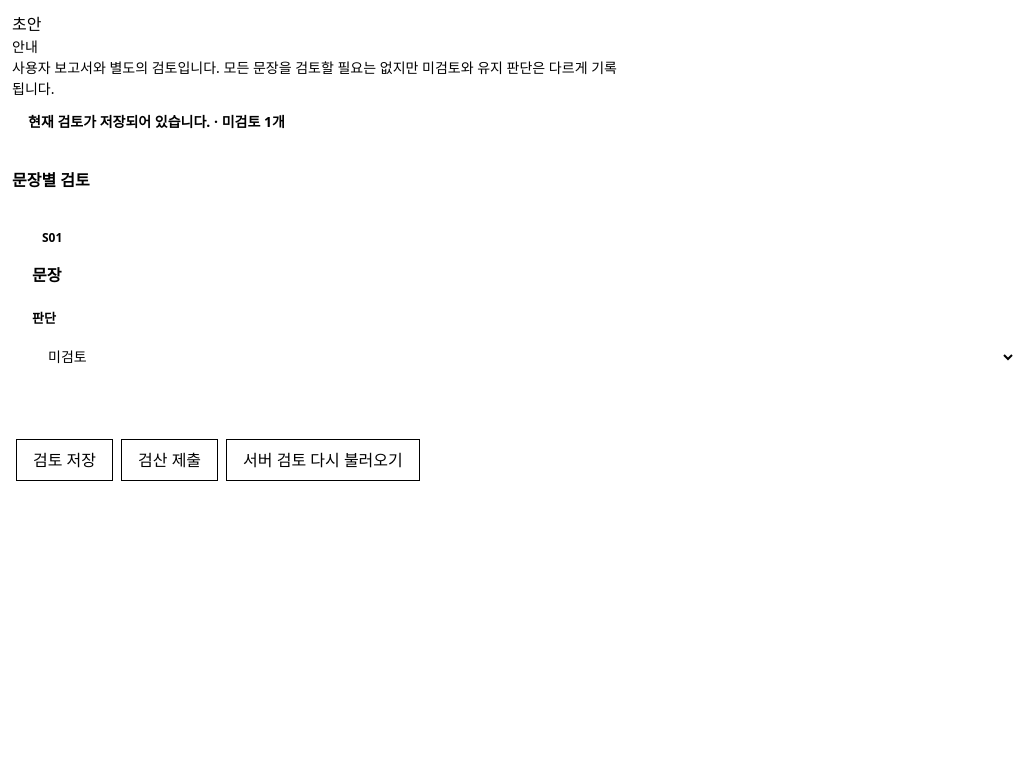
Test case: keeps review input when save fails and prevents submitting an unsaved buffer
Select "유지" in the dropdown labelled "판단": (524, 357) top-left (32, 335), bottom-right (1016, 379)
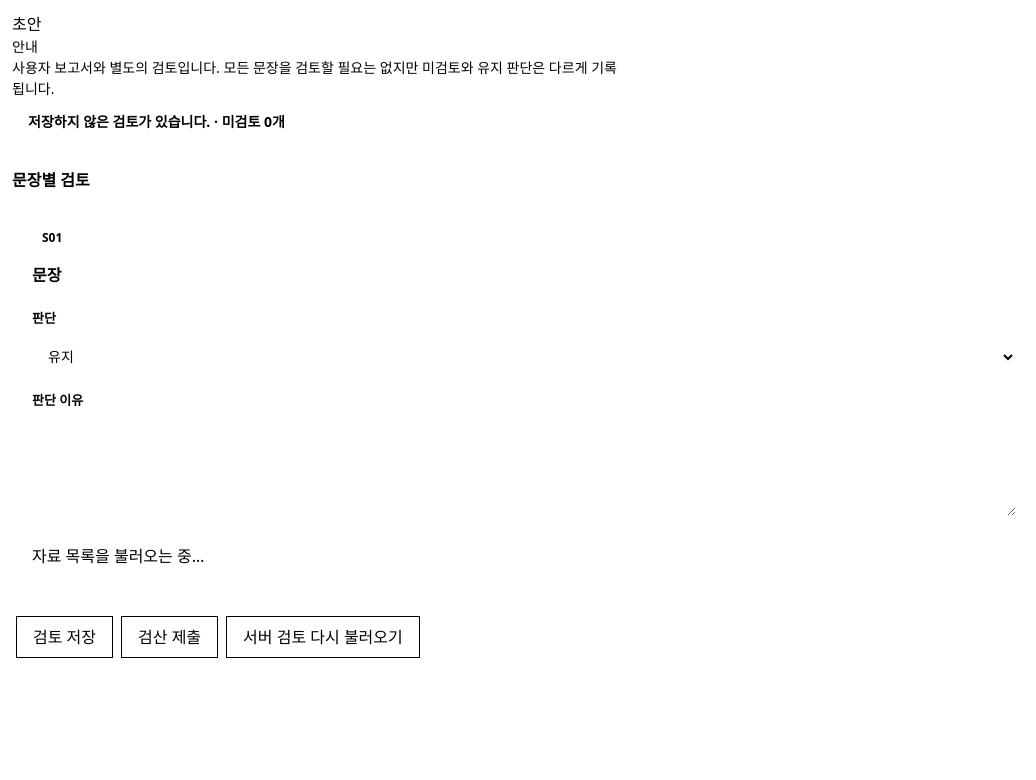
In the text box labelled "판단 이유": (524, 466) top-left (32, 416), bottom-right (1016, 516), type "판단 근거"
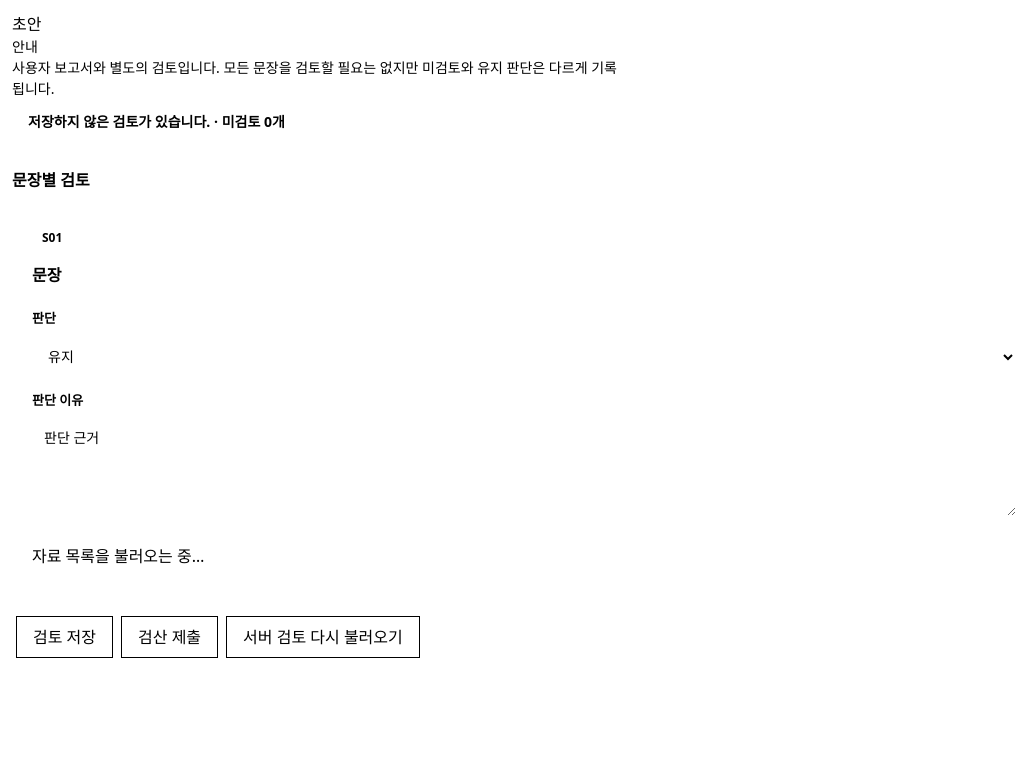
expect the button "검산 제출" is disabled: met, box top-left (121, 616), bottom-right (218, 658)
Click the button "검토 저장": (64, 637) top-left (16, 616), bottom-right (113, 658)
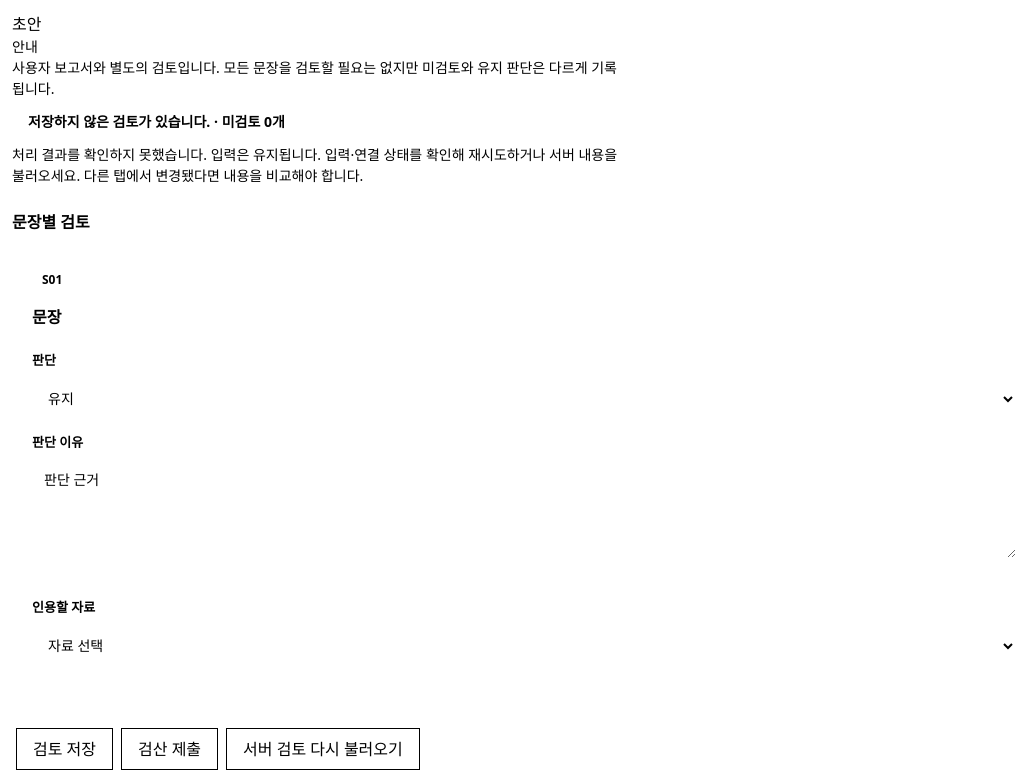
expect the 2nd message is shown: met, box top-left (12, 144), bottom-right (621, 186)
